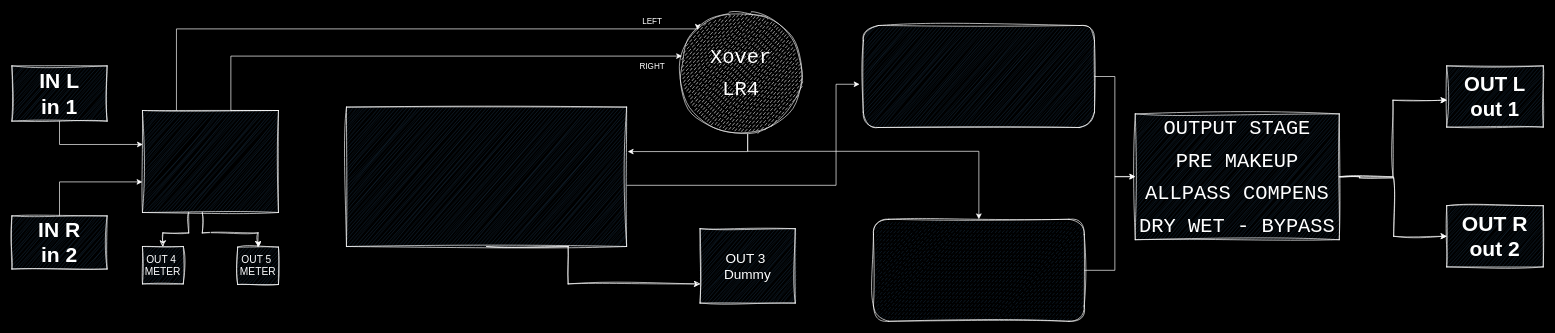
The diagram is 1555 pixels wide and 333 high, and some of its shapes have lost their labels. The shapes that lost their labels are listed below. From the top down, each one's box as (x1, y1, x2, y2) in pixels, then its label:
(863, 25, 1094, 128): EFFECT CHAIN BIT CRUSHER DECIMATOR
(142, 110, 278, 213): INPUT STAGE +- 12 TRIM
(346, 106, 627, 247): DISTORTION CORE 8 MODES (0-7) DRIVE - +DC (even) MODE - CEIL
(873, 219, 1084, 321): LR4-DRY-AllpassCompensated
